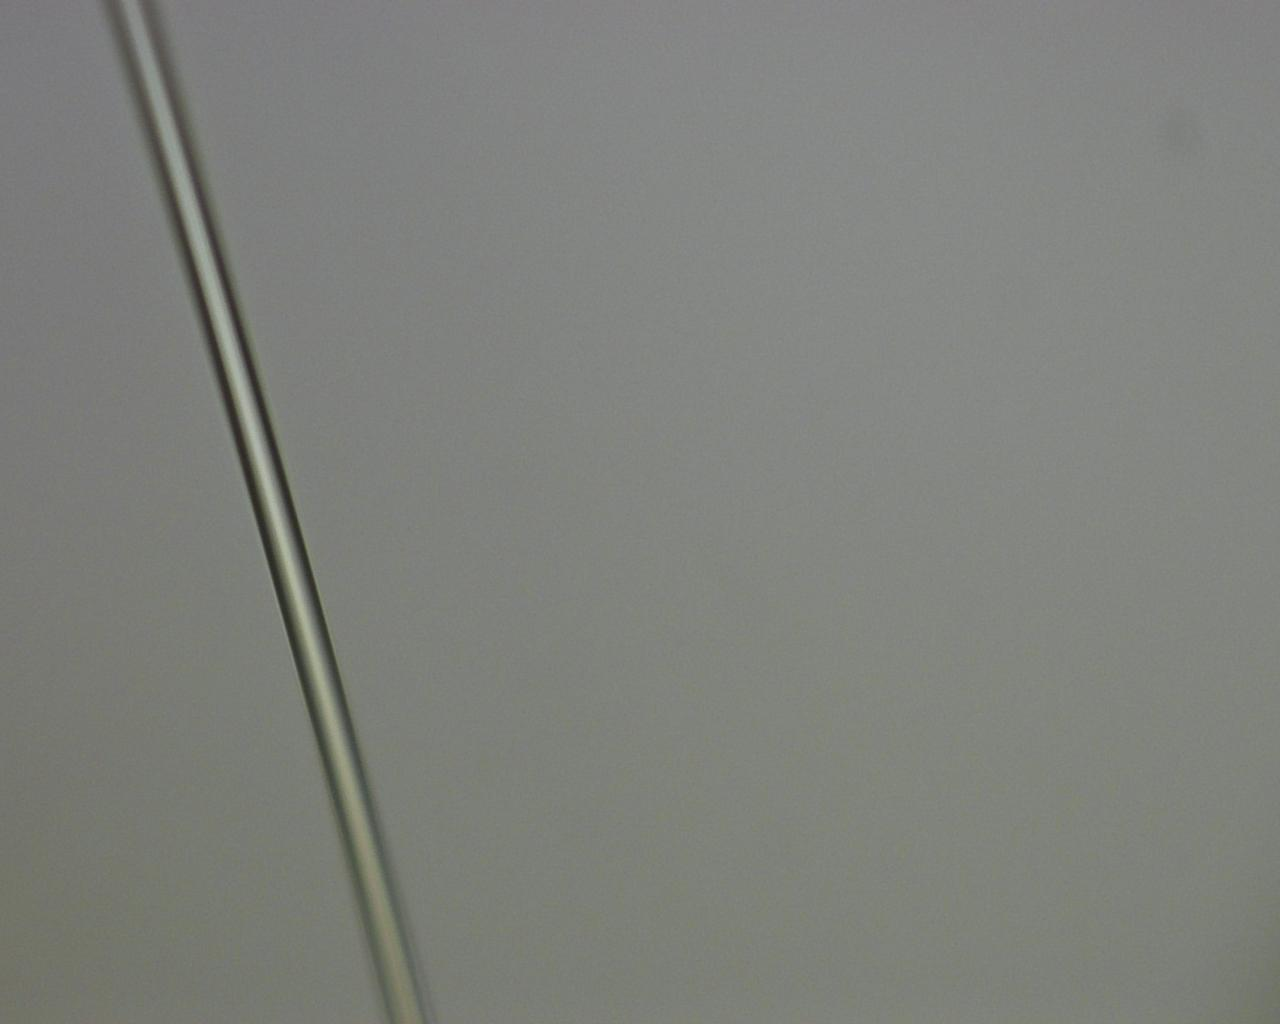fiber: (644, 0, 758, 1024)
